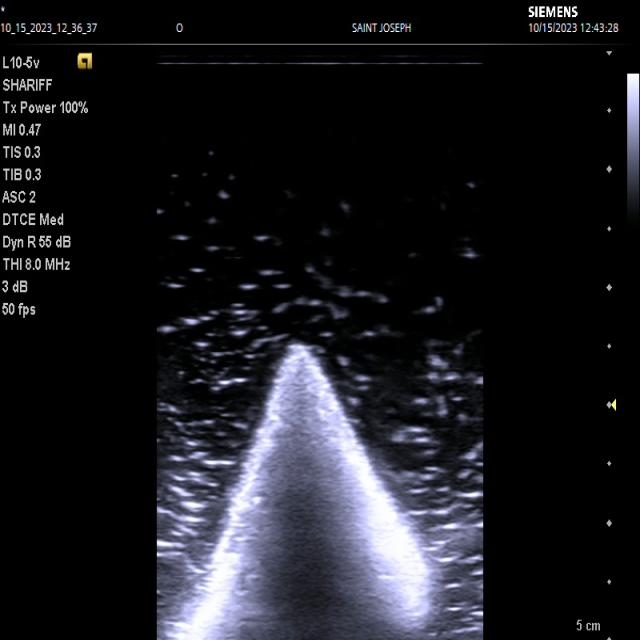tissue: (174, 343, 438, 640)
